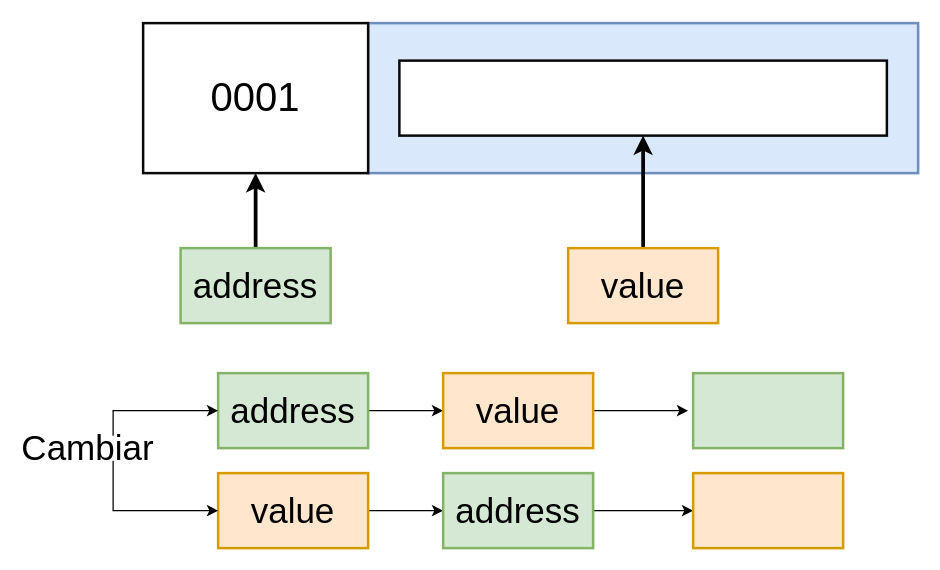
This 940x570 diagram has some shape labels left out. The centre of each missing label's shape, as x and y in pixels:
&value: pixel 767 510
*address: pixel 767 410
person{firstName: "Bito"..}: pixel 643 97
